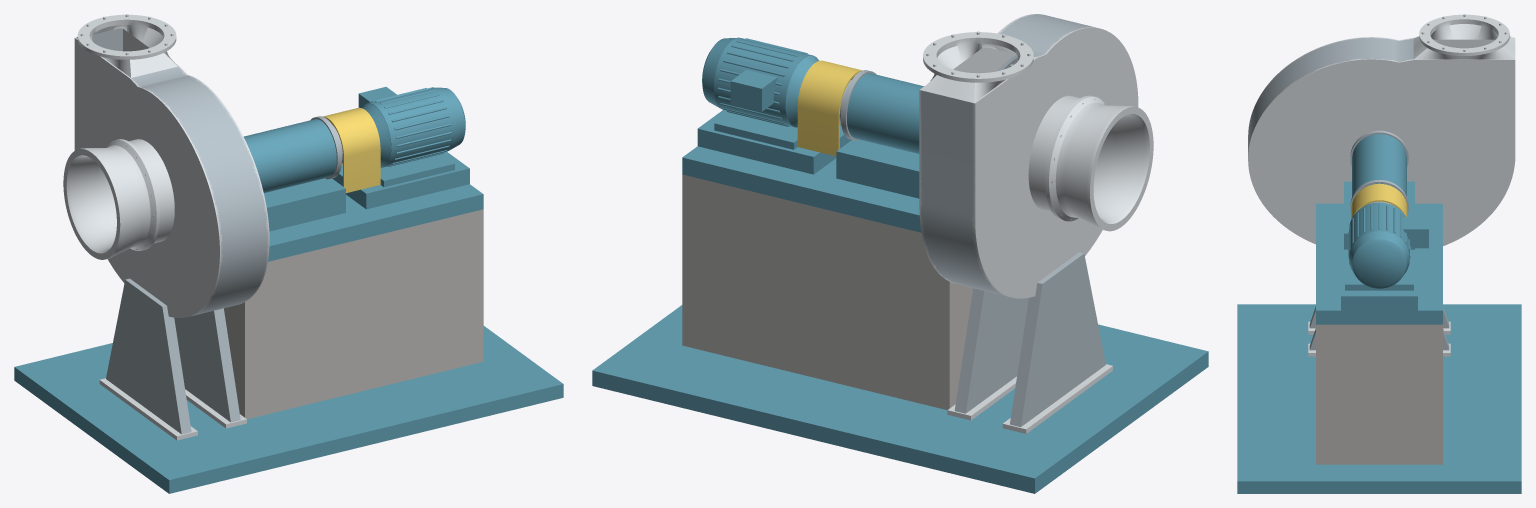
The picture shows the model from 3 angles, left to right: view 1: azimuth 30°, elevation 25°; view 2: azimuth 150°, elevation 25°; view 3: azimuth 270°, elevation 25°; orthographic projection. The views are drawn at different scales.
Visible parts, largest first — view 1: 传动底座_主座, 支撑_整机底座, 本体_进风侧蜗壳板, 蜗壳支架_支脚 (×2), 本体_蜗壳围板, 接口_中空喇叭口及进风法兰, 传动底座_安装板, 驱动_电机外壳 (×3), 驱动_轴承座壳体, 接口_上出风圆法兰及过渡管, 护罩_联轴器拱形罩, 传动底座_轴承座底脚 (+4 smaller); view 2: 传动底座_主座, 支撑_整机底座, 本体_进风侧蜗壳板, 蜗壳支架_支脚 (×2), 接口_中空喇叭口及进风法兰, 本体_蜗壳围板, 传动底座_安装板, 驱动_电机外壳 (×3), 驱动_轴承座壳体, 接口_上出风圆法兰及过渡管, 护罩_联轴器拱形罩, 传动底座_轴承座底脚 (+5 smaller); view 3: 本体_传动侧蜗壳板, 支撑_整机底座, 传动底座_主座, 传动底座_安装板, 驱动_电机外壳 (×3), 接口_上出风圆法兰及过渡管, 本体_蜗壳围板, 驱动_轴承座壳体, 传动底座_电机抬高座, 护罩_联轴器拱形罩, 传动底座_电机底脚, 传动底座_轴承座底脚 (+3 smaller).
Part boxes in pixels (bbox=[...]): 传动底座_主座: bbox=[224, 209, 483, 419]; 支撑_整机底座: bbox=[14, 326, 563, 493]; 本体_进风侧蜗壳板: bbox=[74, 37, 222, 317]; 蜗壳支架_支脚 (×2): bbox=[106, 278, 240, 434]; 本体_蜗壳围板: bbox=[92, 28, 268, 315]; 接口_中空喇叭口及进风法兰: bbox=[63, 139, 174, 259]; 传动底座_安装板: bbox=[268, 184, 483, 261]; 驱动_电机外壳 (×3): bbox=[362, 87, 465, 167]; 驱动_轴承座壳体: bbox=[244, 119, 336, 192]; 接口_上出风圆法兰及过渡管: bbox=[76, 14, 177, 77]; 护罩_联轴器拱形罩: bbox=[323, 107, 380, 192]; 传动底座_轴承座底脚: bbox=[264, 178, 345, 231]; 传动底座_主座: bbox=[682, 174, 973, 410]; 支撑_整机底座: bbox=[592, 305, 1208, 493]; 本体_进风侧蜗壳板: bbox=[972, 27, 1138, 298]; 蜗壳支架_支脚 (×2): bbox=[954, 252, 1105, 427]; 接口_中空喇叭口及进风法兰: bbox=[1028, 95, 1153, 231]; 本体_蜗壳围板: bbox=[921, 14, 1094, 296]; 传动底座_安装板: bbox=[682, 146, 921, 232]; 驱动_电机外壳 (×3): bbox=[702, 37, 818, 127]; 驱动_轴承座壳体: bbox=[847, 73, 923, 153]; 接口_上出风圆法兰及过渡管: bbox=[921, 32, 1035, 102]; 护罩_联轴器拱形罩: bbox=[797, 60, 862, 156]; 传动底座_轴承座底脚: bbox=[836, 139, 919, 198]; 本体_传动侧蜗壳板: bbox=[1248, 58, 1515, 245]; 支撑_整机底座: bbox=[1237, 304, 1521, 493]; 传动底座_主座: bbox=[1316, 324, 1442, 464]; 传动底座_安装板: bbox=[1316, 203, 1442, 324]; 驱动_电机外壳 (×3): bbox=[1349, 202, 1409, 288]; 接口_上出风圆法兰及过渡管: bbox=[1413, 14, 1515, 59]; 本体_蜗壳围板: bbox=[1248, 37, 1413, 155]; 驱动_轴承座壳体: bbox=[1352, 134, 1406, 196]; 传动底座_电机抬高座: bbox=[1341, 249, 1417, 310]; 护罩_联轴器拱形罩: bbox=[1351, 183, 1407, 218]; 传动底座_电机底脚: bbox=[1345, 253, 1413, 290]; 传动底座_轴承座底脚: bbox=[1344, 181, 1414, 249].
Size of the model in its own units: 3 by 2.54 by 2.04.
